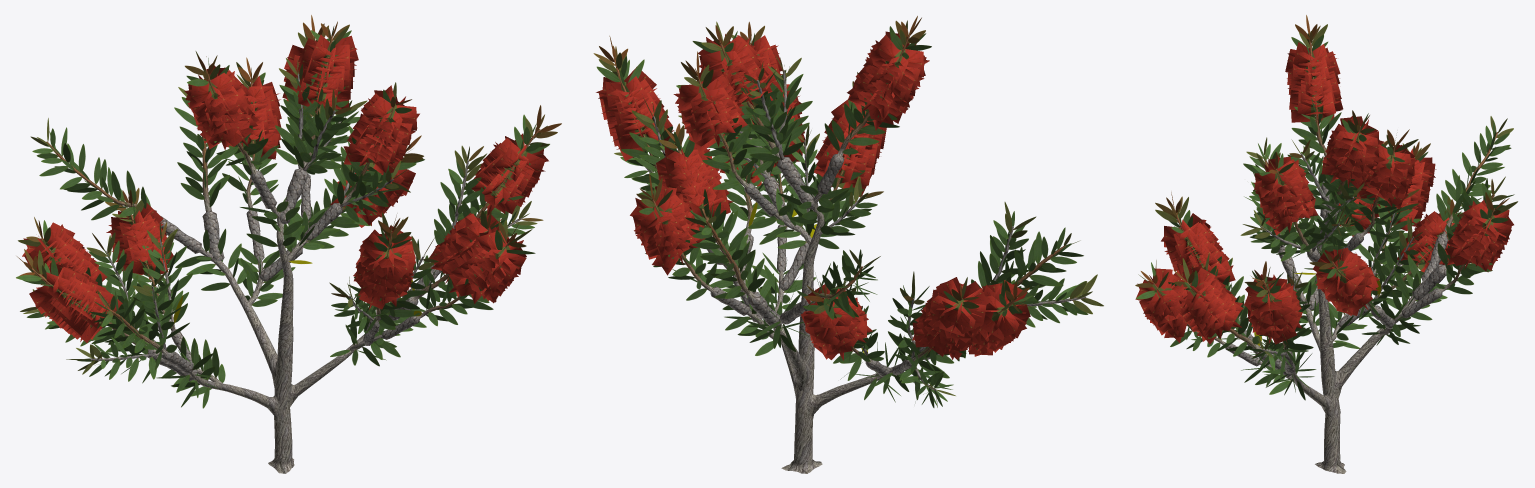
The model's file is callistemon.glb.
The picture shows the model from 3 angles, left to right: view 1: azimuth 30°, elevation 25°; view 2: azimuth 150°, elevation 25°; view 3: azimuth 270°, elevation 25°; orthographic projection. The views are drawn at different scales.
Visible parts, largest first — view 1: Callistemon_laevis_HD_Callistemon flower_0, Callistemon_laevis_HD_Callist laevis leaf_0, Callistemon_laevis_HD_Callistemon fruits_0, Callistemon_laevis_HD_Callistemon bark_0, Callistemon_laevis_HD_Callist laevis leaf d_0, Callistemon_laevis_HD_Callist laevis leaf c_0, Callistemon_laevis_HD_Callistemon twig_0, Callistemon_laevis_HD_Callist laevis leaf b_0, Callistemon_laevis_HD_Callist laevis leaf a_0; view 2: Callistemon_laevis_HD_Callistemon flower_0, Callistemon_laevis_HD_Callist laevis leaf_0, Callistemon_laevis_HD_Callistemon fruits_0, Callistemon_laevis_HD_Callistemon bark_0, Callistemon_laevis_HD_Callist laevis leaf d_0, Callistemon_laevis_HD_Callist laevis leaf c_0, Callistemon_laevis_HD_Callistemon twig_0, Callistemon_laevis_HD_Callist laevis leaf b_0, Callistemon_laevis_HD_Callist laevis leaf a_0; view 3: Callistemon_laevis_HD_Callistemon flower_0, Callistemon_laevis_HD_Callist laevis leaf_0, Callistemon_laevis_HD_Callistemon fruits_0, Callistemon_laevis_HD_Callistemon bark_0, Callistemon_laevis_HD_Callist laevis leaf d_0, Callistemon_laevis_HD_Callist laevis leaf c_0, Callistemon_laevis_HD_Callistemon twig_0, Callistemon_laevis_HD_Callist laevis leaf b_0, Callistemon_laevis_HD_Callist laevis leaf a_0.
Boxes of the visible parts, x1,y1,x2,y2 form: Callistemon_laevis_HD_Callistemon flower_0: (22, 34, 548, 342); Callistemon_laevis_HD_Callist laevis leaf_0: (39, 84, 523, 408); Callistemon_laevis_HD_Callistemon fruits_0: (90, 73, 522, 381); Callistemon_laevis_HD_Callistemon bark_0: (189, 207, 383, 473); Callistemon_laevis_HD_Callist laevis leaf d_0: (16, 30, 549, 368); Callistemon_laevis_HD_Callist laevis leaf c_0: (18, 26, 548, 374); Callistemon_laevis_HD_Callistemon twig_0: (31, 35, 540, 354); Callistemon_laevis_HD_Callist laevis leaf b_0: (24, 24, 557, 297); Callistemon_laevis_HD_Callist laevis leaf a_0: (16, 15, 561, 278); Callistemon_laevis_HD_Callistemon flower_0: (596, 31, 1030, 360); Callistemon_laevis_HD_Callist laevis leaf_0: (621, 74, 1088, 407); Callistemon_laevis_HD_Callistemon fruits_0: (640, 70, 1085, 390); Callistemon_laevis_HD_Callistemon bark_0: (723, 191, 899, 473); Callistemon_laevis_HD_Callist laevis leaf d_0: (596, 26, 1086, 406); Callistemon_laevis_HD_Callist laevis leaf c_0: (598, 20, 1103, 407); Callistemon_laevis_HD_Callistemon twig_0: (613, 34, 1065, 363); Callistemon_laevis_HD_Callist laevis leaf b_0: (593, 20, 1028, 311); Callistemon_laevis_HD_Callist laevis leaf a_0: (599, 16, 1031, 306); Callistemon_laevis_HD_Callistemon flower_0: (1135, 42, 1513, 344); Callistemon_laevis_HD_Callist laevis leaf_0: (1170, 98, 1510, 400); Callistemon_laevis_HD_Callistemon fruits_0: (1225, 153, 1448, 376); Callistemon_laevis_HD_Callistemon bark_0: (1260, 219, 1424, 473); Callistemon_laevis_HD_Callist laevis leaf d_0: (1136, 33, 1514, 370); Callistemon_laevis_HD_Callist laevis leaf c_0: (1138, 24, 1517, 357); Callistemon_laevis_HD_Callistemon twig_0: (1153, 36, 1497, 354); Callistemon_laevis_HD_Callist laevis leaf b_0: (1135, 25, 1500, 357); Callistemon_laevis_HD_Callist laevis leaf a_0: (1141, 15, 1509, 286).
Size of the model in its own units: 0.7887 by 0.6842 by 0.5857.
Materials: 10 (10 with a texture image).
